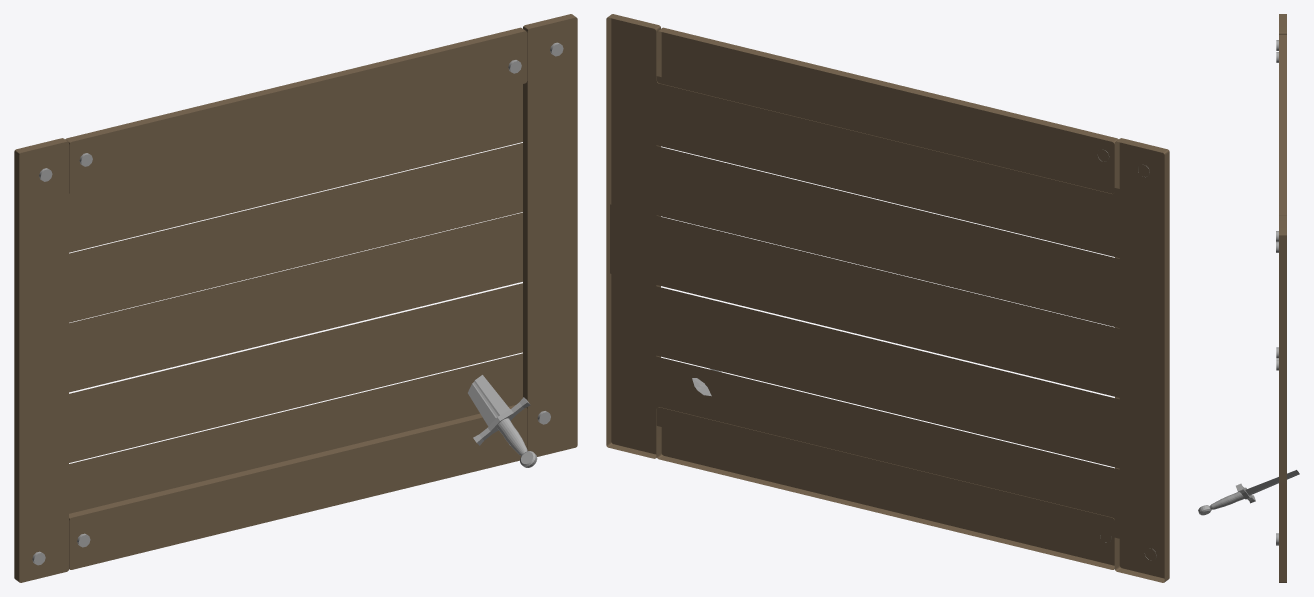
File: The raven queen billboard.fbx
3 renders of one model, left to right at view 1: azimuth 30°, elevation 25°; view 2: azimuth 150°, elevation 25°; view 3: azimuth 270°, elevation 25°, orthographic. The views are drawn at different scales.
Visible parts, largest first — view 1: Board, Dagger; view 2: Board; view 3: Board, Dagger.
Part boxes in pixels (left/top/right/bottom): Board: left=14, top=14, right=577, bottom=582; Dagger: left=468, top=375, right=537, bottom=467; Board: left=606, top=14, right=1169, bottom=582; Board: left=1276, top=14, right=1286, bottom=582; Dagger: left=1198, top=470, right=1299, bottom=515.
Size of the model in its own units: 124 by 91.2 by 24.13.
